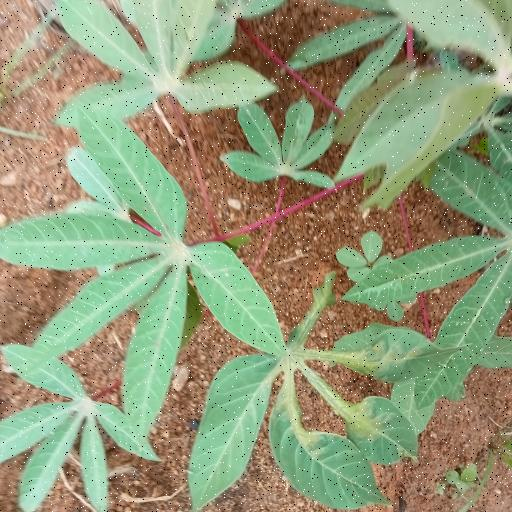Cassava_Mosaic: (25, 97, 286, 400), (201, 314, 442, 512)
